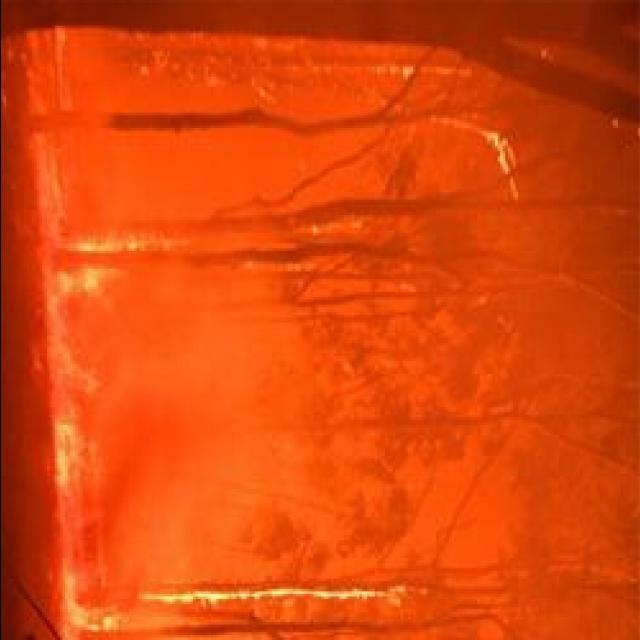fire: (48, 416, 82, 486), (63, 602, 114, 636)
smoke: (37, 43, 380, 224), (424, 198, 628, 298), (400, 132, 498, 200)
